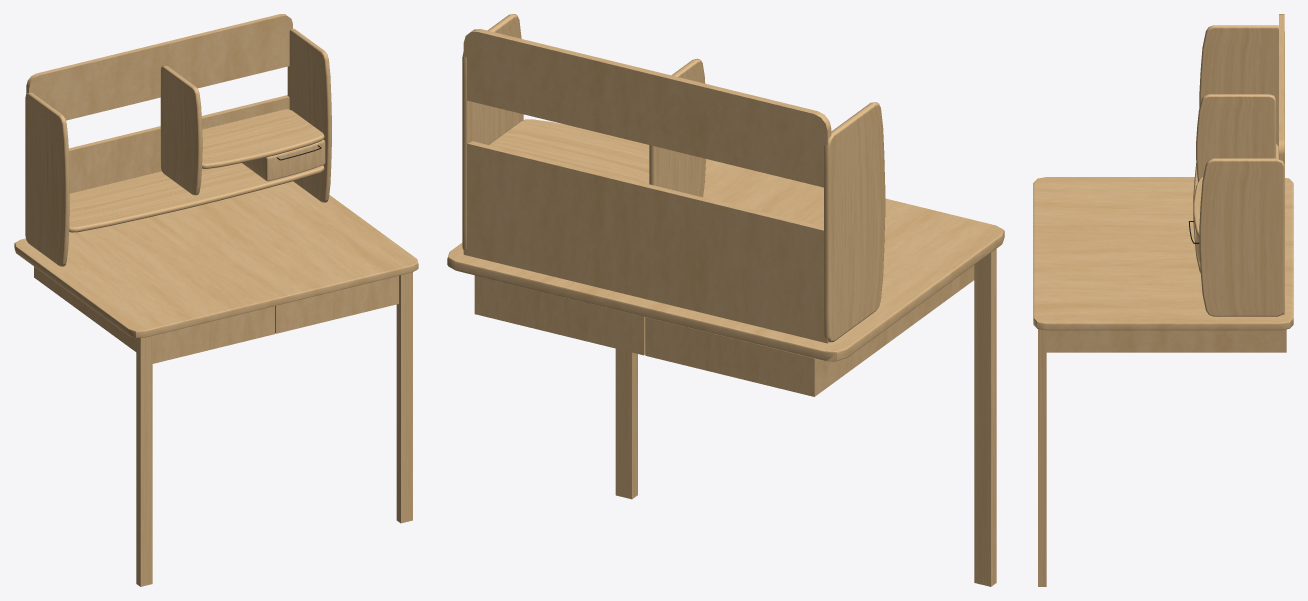
Rendered from stage1_5.fbx.
3 views of the same model, side by side, from view 1: azimuth 30°, elevation 25°; view 2: azimuth 150°, elevation 25°; view 3: azimuth 270°, elevation 25° (orthographic). The views are drawn at different scales.
Parts seen in each view (by area): view 1: desk1; view 2: desk1; view 3: desk1.
Part boxes in pixels (<box>): desk1: <box>14,14,418,586</box>; desk1: <box>447,14,1004,586</box>; desk1: <box>1033,14,1293,586</box>.
Bounding box in the file's own units: 1200 × 1680 × 900.
Materials: 2 (2 with a texture image).
